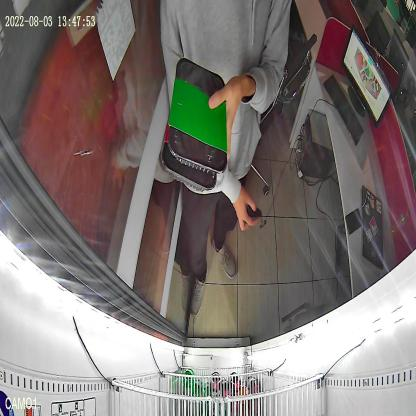green: (167, 57, 228, 175)
red: (161, 117, 217, 193)
